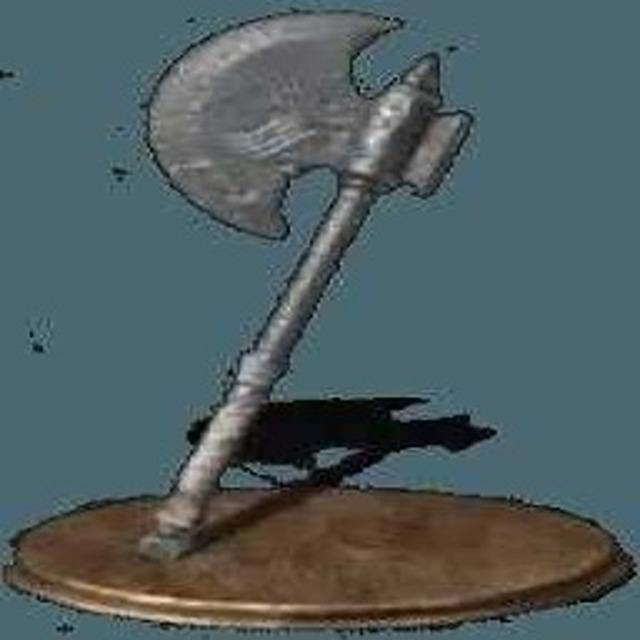ax: (110, 0, 483, 570)
